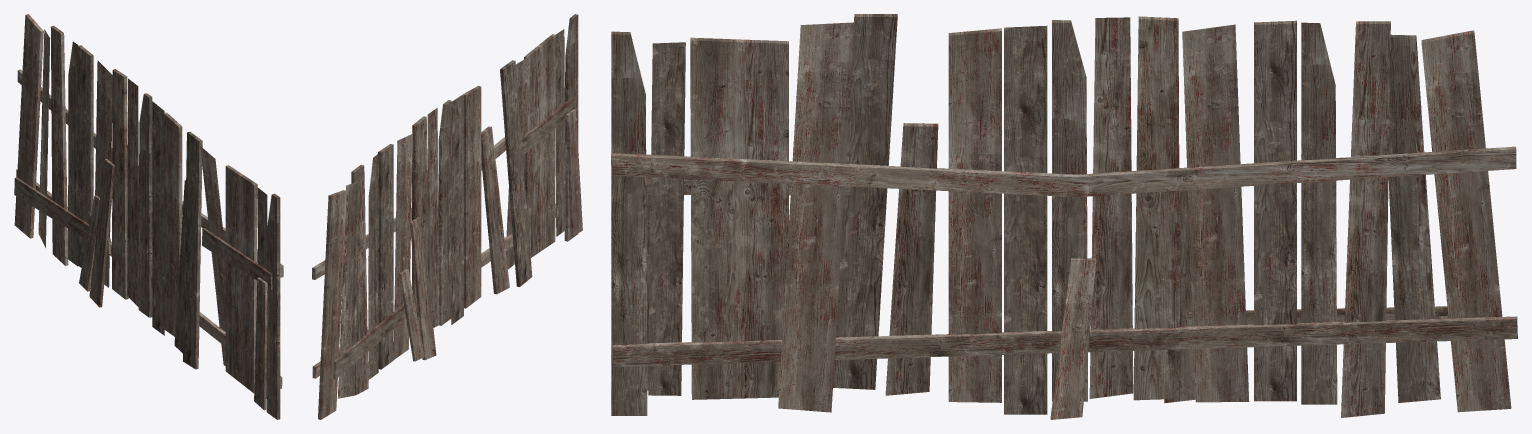
File: Fence2B_LOD1.fbx
The picture shows the model from 3 angles, left to right: view 1: azimuth 30°, elevation 25°; view 2: azimuth 150°, elevation 25°; view 3: azimuth 270°, elevation 25°; orthographic projection. The views are drawn at different scales.
Visible parts, largest first — view 1: polySurface630; view 2: polySurface630; view 3: polySurface630.
Boxes of the visible parts, box(x1,y1,x2,y2) form: polySurface630: box(14, 14, 283, 419); polySurface630: box(312, 14, 582, 419); polySurface630: box(611, 14, 1517, 419).
Size of the model in its own units: 0.4175 by 2.51 by 5.16.
